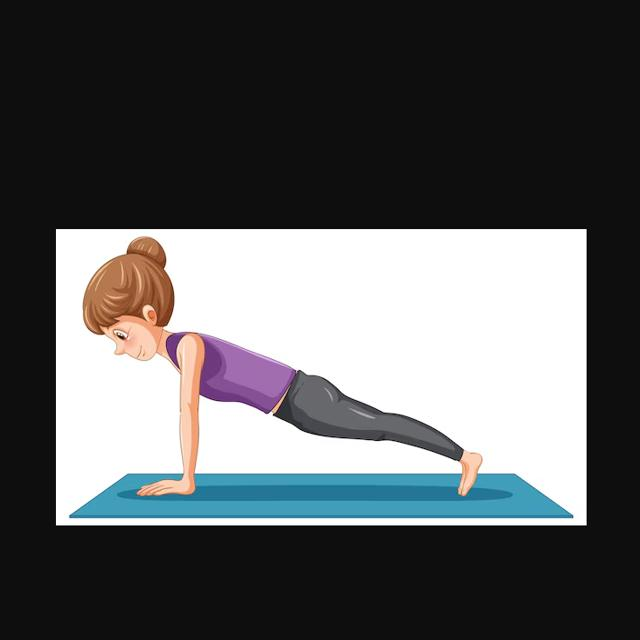Plank_Pose: (71, 240, 516, 510)
